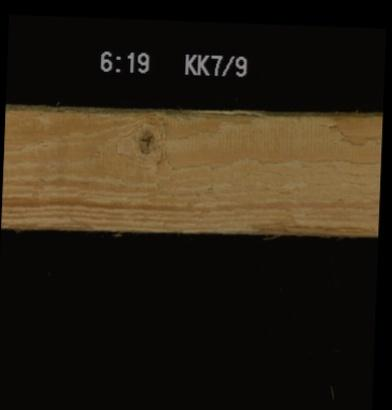sound_knot: (126, 117, 164, 166)
wave: (243, 217, 377, 235)
